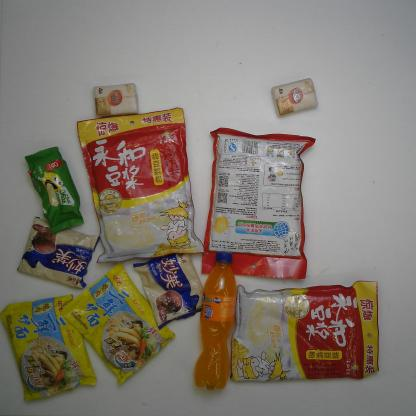Dessert: (16, 216, 100, 290), (132, 252, 204, 330), (24, 146, 84, 233)
Drink: (191, 250, 238, 392)
Instant Drink: (77, 107, 205, 264), (200, 124, 316, 280), (228, 280, 380, 383)
Instant Noodles: (60, 262, 176, 387), (0, 293, 98, 402)
Tissue: (92, 81, 140, 119), (271, 78, 318, 116)
